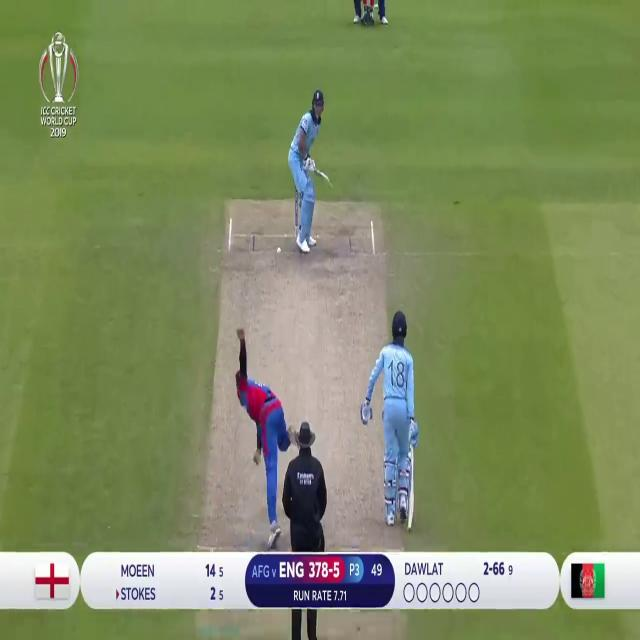ball: (275, 242, 283, 255)
